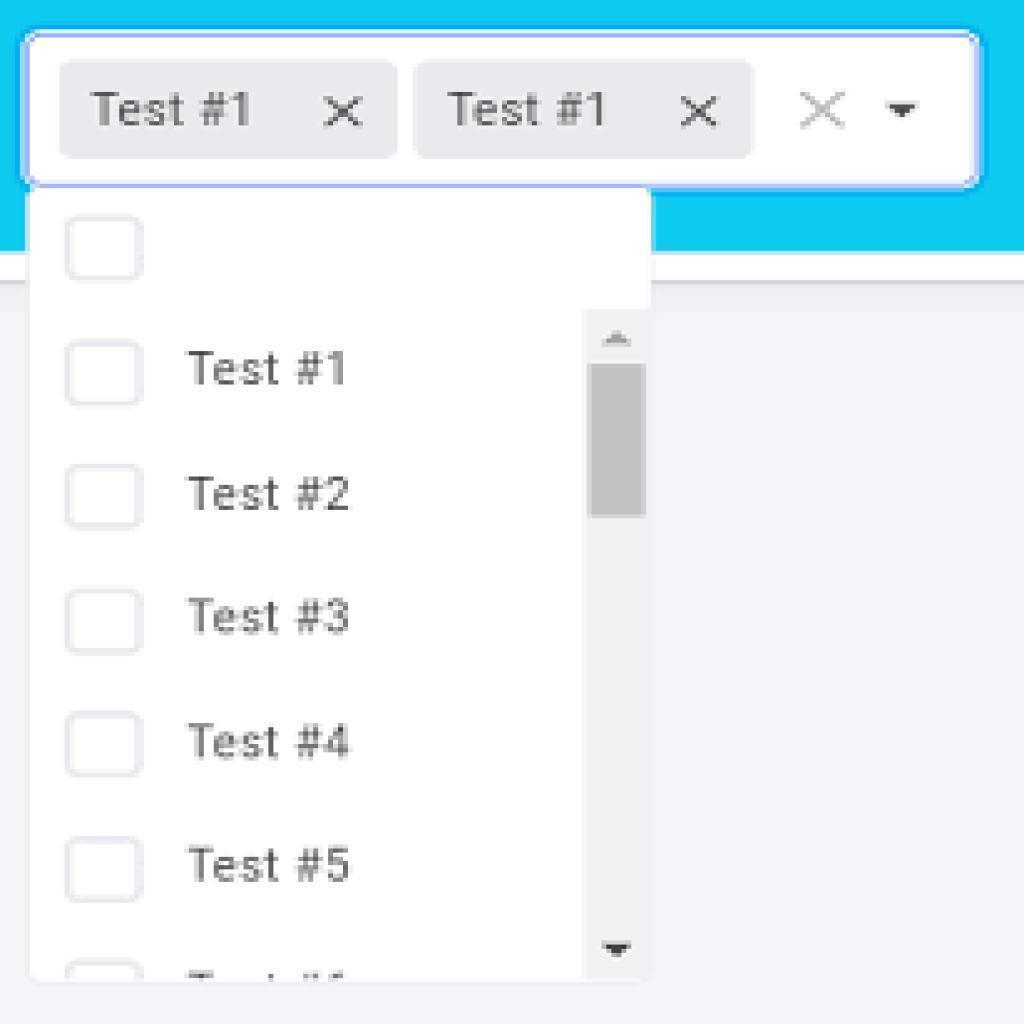checkbox: (63, 587, 145, 657), (66, 340, 145, 410), (65, 463, 145, 532), (66, 710, 145, 779), (67, 218, 145, 283), (66, 837, 140, 900)
dropdown: (19, 26, 985, 193)
label: (183, 341, 349, 397), (180, 590, 357, 642), (186, 466, 355, 520), (184, 840, 360, 891), (184, 714, 357, 763)
